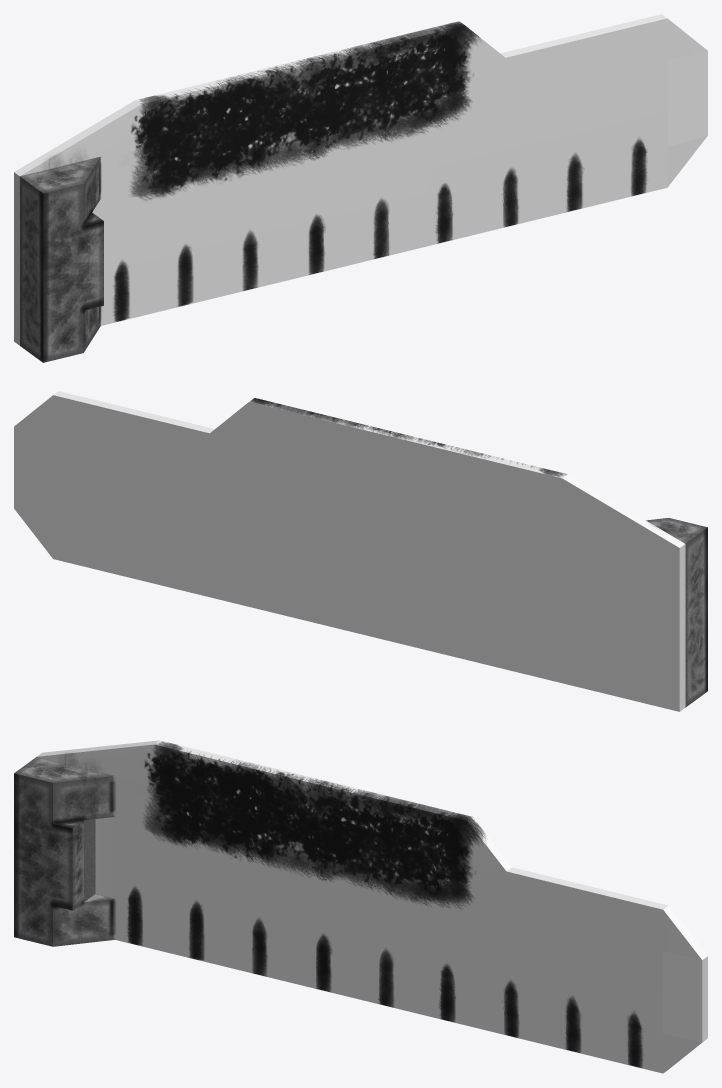
The model's file is meter-text-entity.fbx.
The picture shows the model from 3 angles, top to bottom: view 1: azimuth 30°, elevation 25°; view 2: azimuth 150°, elevation 25°; view 3: azimuth 330°, elevation 25°; orthographic projection. The views are drawn at different scales.
Visible parts, largest first — view 1: Plane; view 2: Plane; view 3: Plane.
Boxes of the visible parts, x1,y1,x2,y2 form: Plane: (14,14,707,362); Plane: (14,391,707,711); Plane: (14,740,707,1073).
Bounding box in the file's own units: 213 × 62.5 × 15.63.
1 material, 1 textured.
